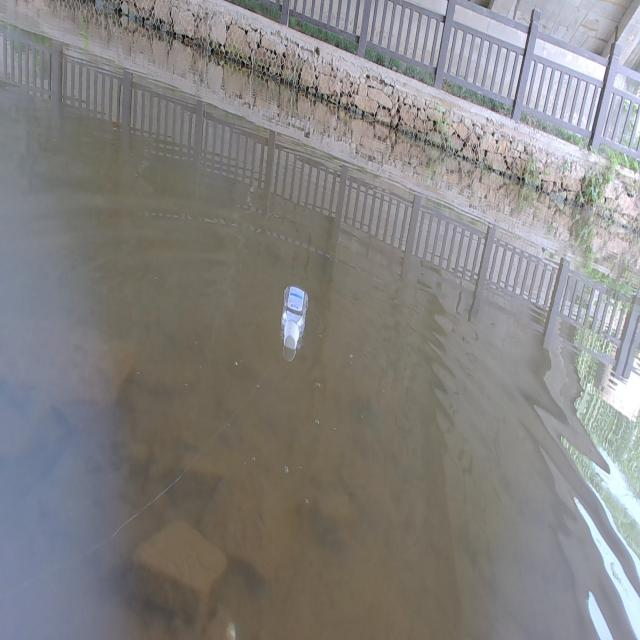Bottle: (278, 281, 310, 353)
